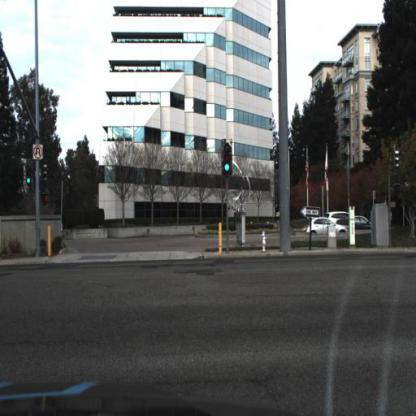car: (312, 218, 349, 238), (324, 210, 352, 234), (349, 211, 371, 234), (356, 216, 371, 236)
trafficLight-Green: (220, 143, 235, 192), (23, 167, 37, 199), (224, 139, 233, 173), (26, 170, 34, 189)
